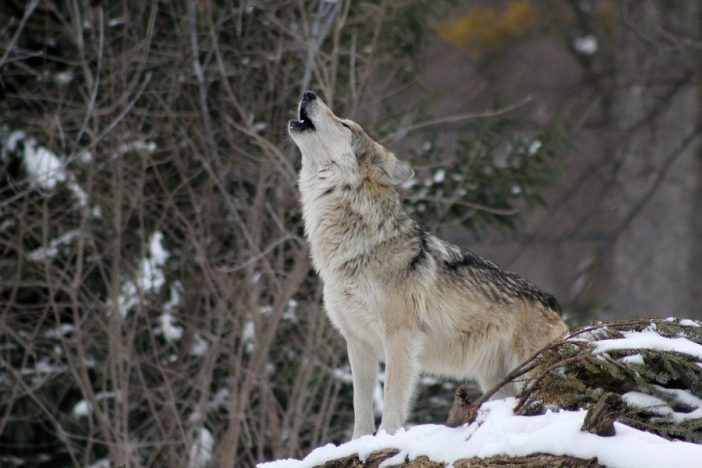Lobo: (271, 77, 576, 414)
